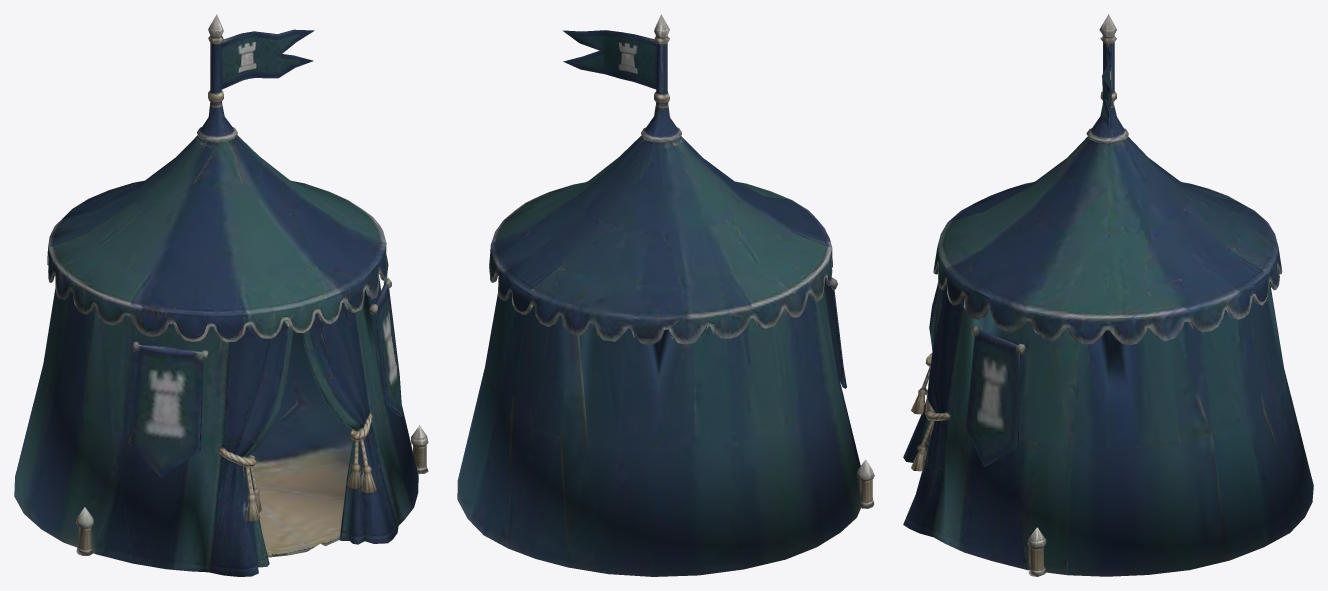
Rendered from tent_dark.glb.
3 views of the same model, side by side, from view 1: azimuth 30°, elevation 25°; view 2: azimuth 150°, elevation 25°; view 3: azimuth 270°, elevation 25° (orthographic).
Bounding box in the file's own units: 0.7437 × 0.9531 × 0.7442.
1 material, 1 textured.
